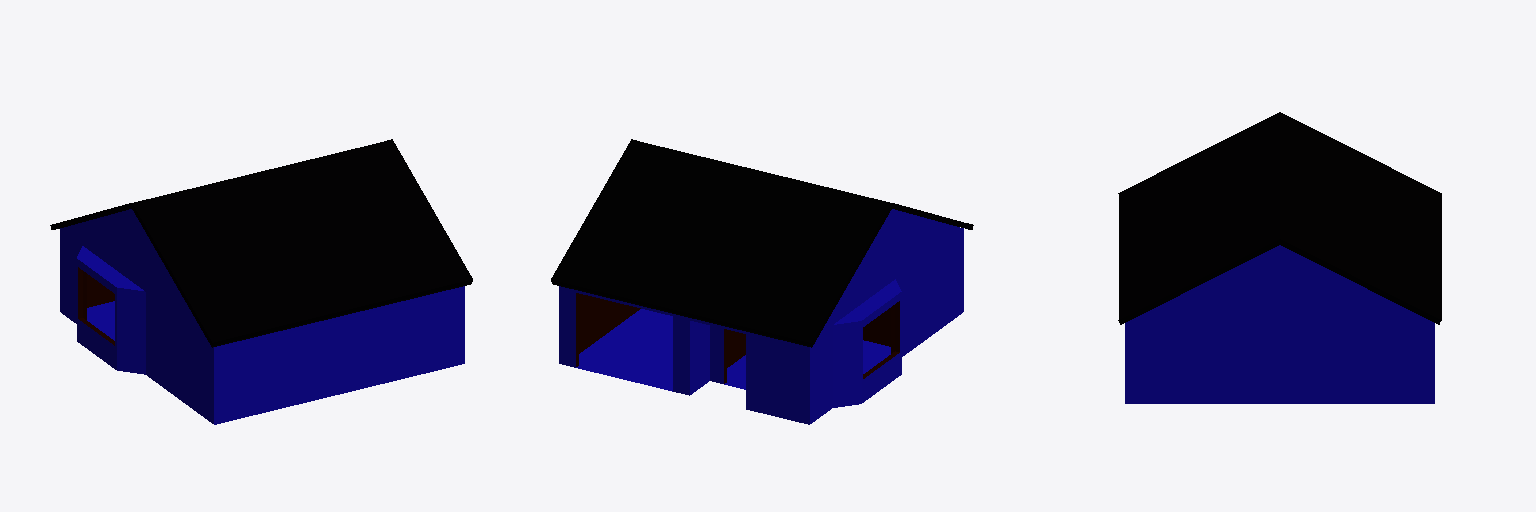
File: CottagePlanAll.obj
3 renders of one model, left to right at view 1: azimuth 30°, elevation 25°; view 2: azimuth 150°, elevation 25°; view 3: azimuth 270°, elevation 25°, orthographic.
Parts seen in each view (by area): view 1: Plane.002, Cube, Plane, Plane.010, Plane.016; view 2: Plane.003, Cube, Plane, Plane.011, Plane.051_Plane.045, Plane.033, Plane.031, Plane.004; view 3: Cube, Plane.002, Plane.003, Plane.001, Plane.006, Plane.007.
Part boxes in pixels (x1,y1,x2,y2): Plane.002: (132,140,471,341); Cube: (60,229,464,424); Plane: (60,209,203,333); Plane.010: (211,280,471,346); Plane.016: (87,274,114,307); Plane.003: (552,140,891,341); Cube: (559,229,963,424); Plane: (820,209,963,333); Plane.011: (579,294,640,353); Plane.051_Plane.045: (552,280,812,346); Plane.033: (863,308,890,346); Plane.031: (727,330,745,367); Plane.004: (552,280,811,347); Cube: (1125,320,1434,403); Plane.002: (1120,112,1279,318); Plane.003: (1280,112,1439,318); Plane.001: (1132,245,1427,319); Plane.006: (1279,240,1441,324); Plane.007: (1118,240,1280,324).
Size of the model in its own units: 27.5 by 16.05 by 28.24.